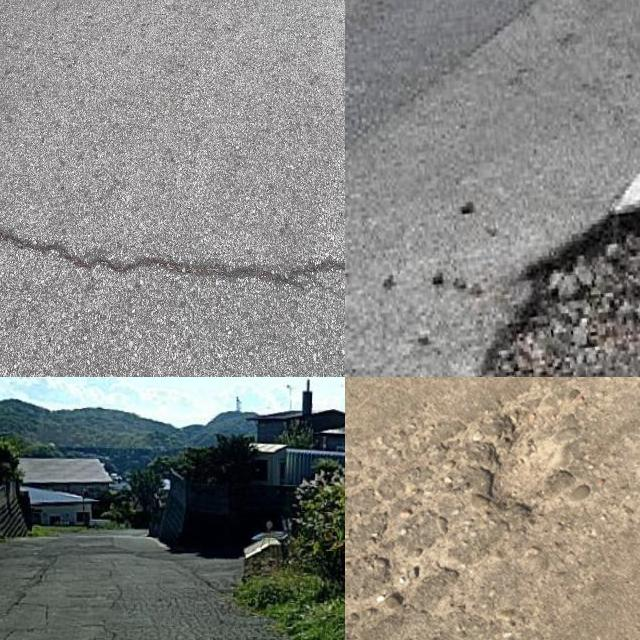Lubang: (477, 205, 640, 377), (486, 397, 580, 510)
Melintang: (0, 220, 345, 300)
